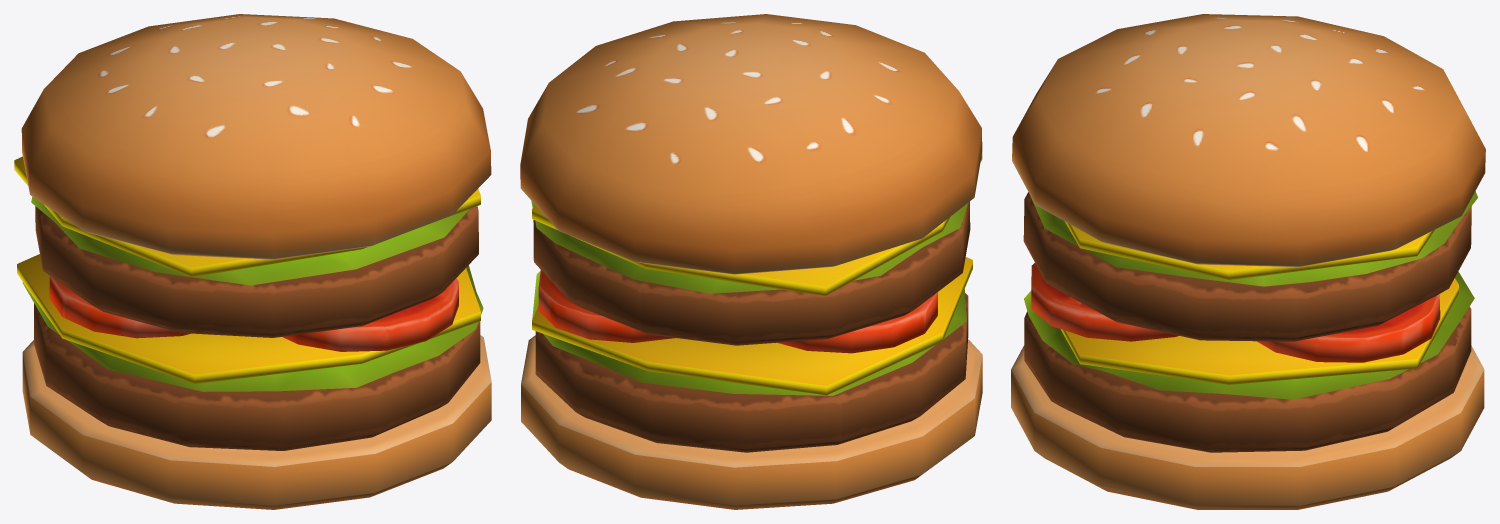
The model's file is Hambuger.FBX.
3 views of the same model, side by side, from view 1: azimuth 30°, elevation 25°; view 2: azimuth 150°, elevation 25°; view 3: azimuth 270°, elevation 25° (orthographic).
Parts seen in each view (by area): view 1: Hambuger; view 2: Hambuger; view 3: Hambuger.
Boxes of the visible parts, x1,y1,x2,y2 form: Hambuger: (14, 14, 491, 509); Hambuger: (520, 14, 982, 509); Hambuger: (1011, 14, 1485, 509).
Bounding box in the file's own units: 21.95 × 19.04 × 22.58.
